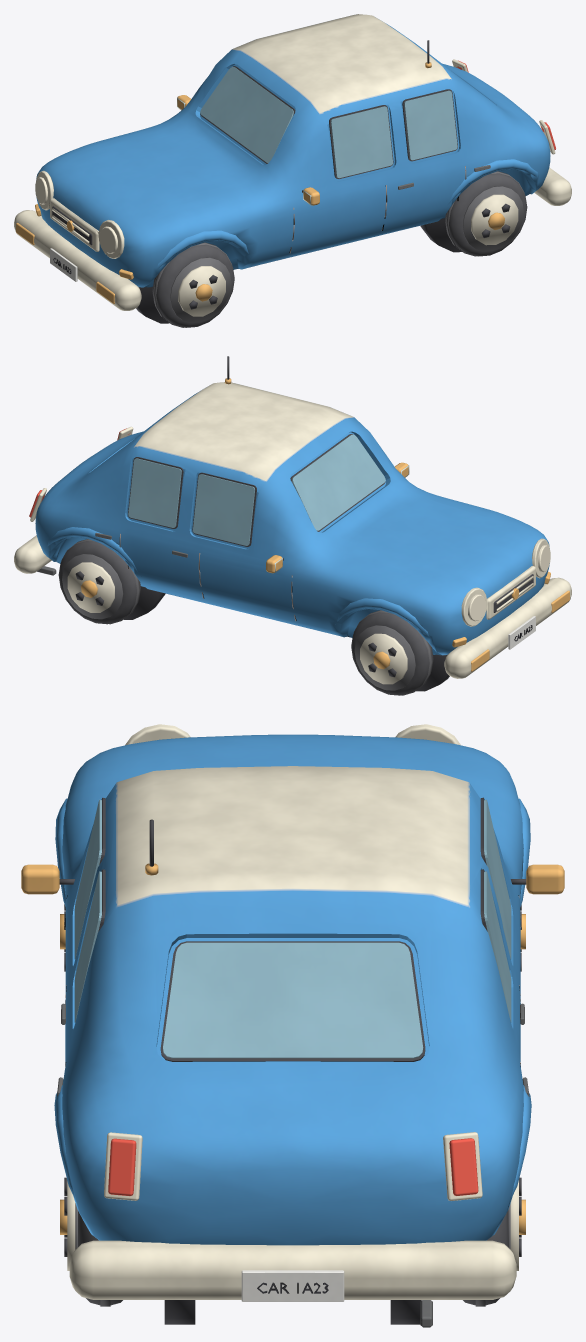
The model's file is Transito_CarBlue.fbx.
The picture shows the model from 3 angles, top to bottom: view 1: azimuth 30°, elevation 25°; view 2: azimuth 150°, elevation 25°; view 3: azimuth 270°, elevation 25°; orthographic projection. The views are drawn at different scales.
Visible parts, largest first — view 1: Transito_CarBlue; view 2: Transito_CarBlue; view 3: Transito_CarBlue.
Part boxes in pixels (x1,y1,x2,y2): Transito_CarBlue: [14, 14, 571, 327]; Transito_CarBlue: [14, 356, 571, 695]; Transito_CarBlue: [21, 724, 564, 1327].
Size of the model in its own units: 4.15 by 1.93 by 2.12.
Materials: 1 (1 with a texture image).
